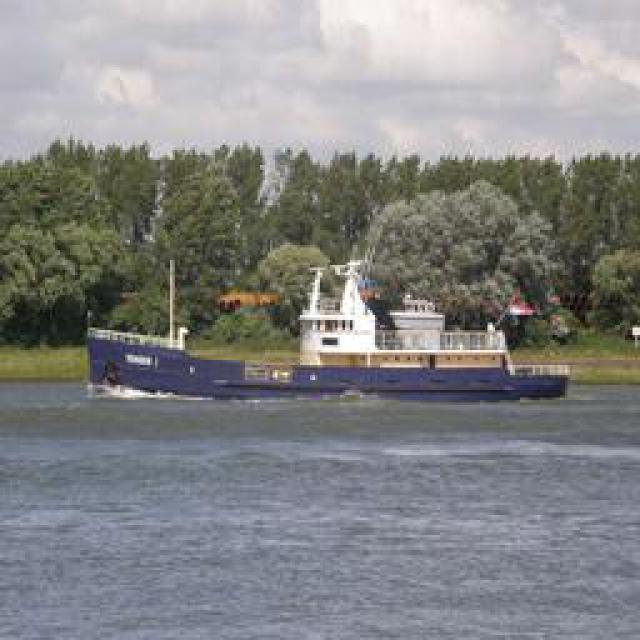Ship: (89, 281, 559, 404)
